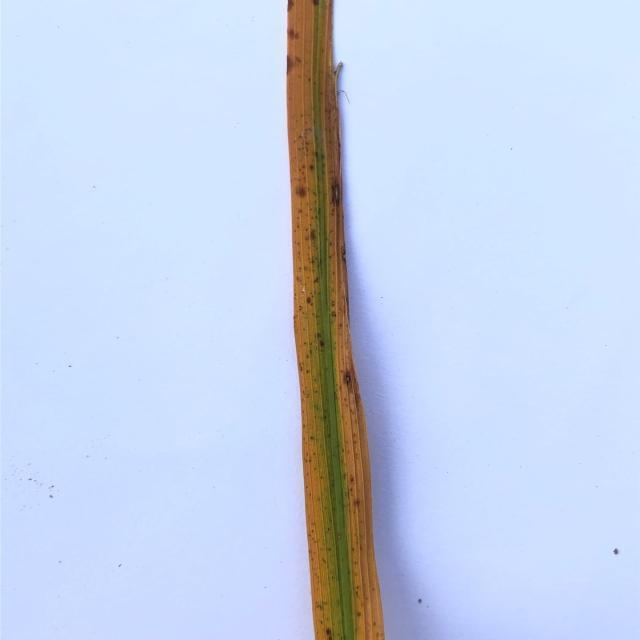Rice Tungro: (296, 269, 343, 640), (340, 354, 391, 640)
